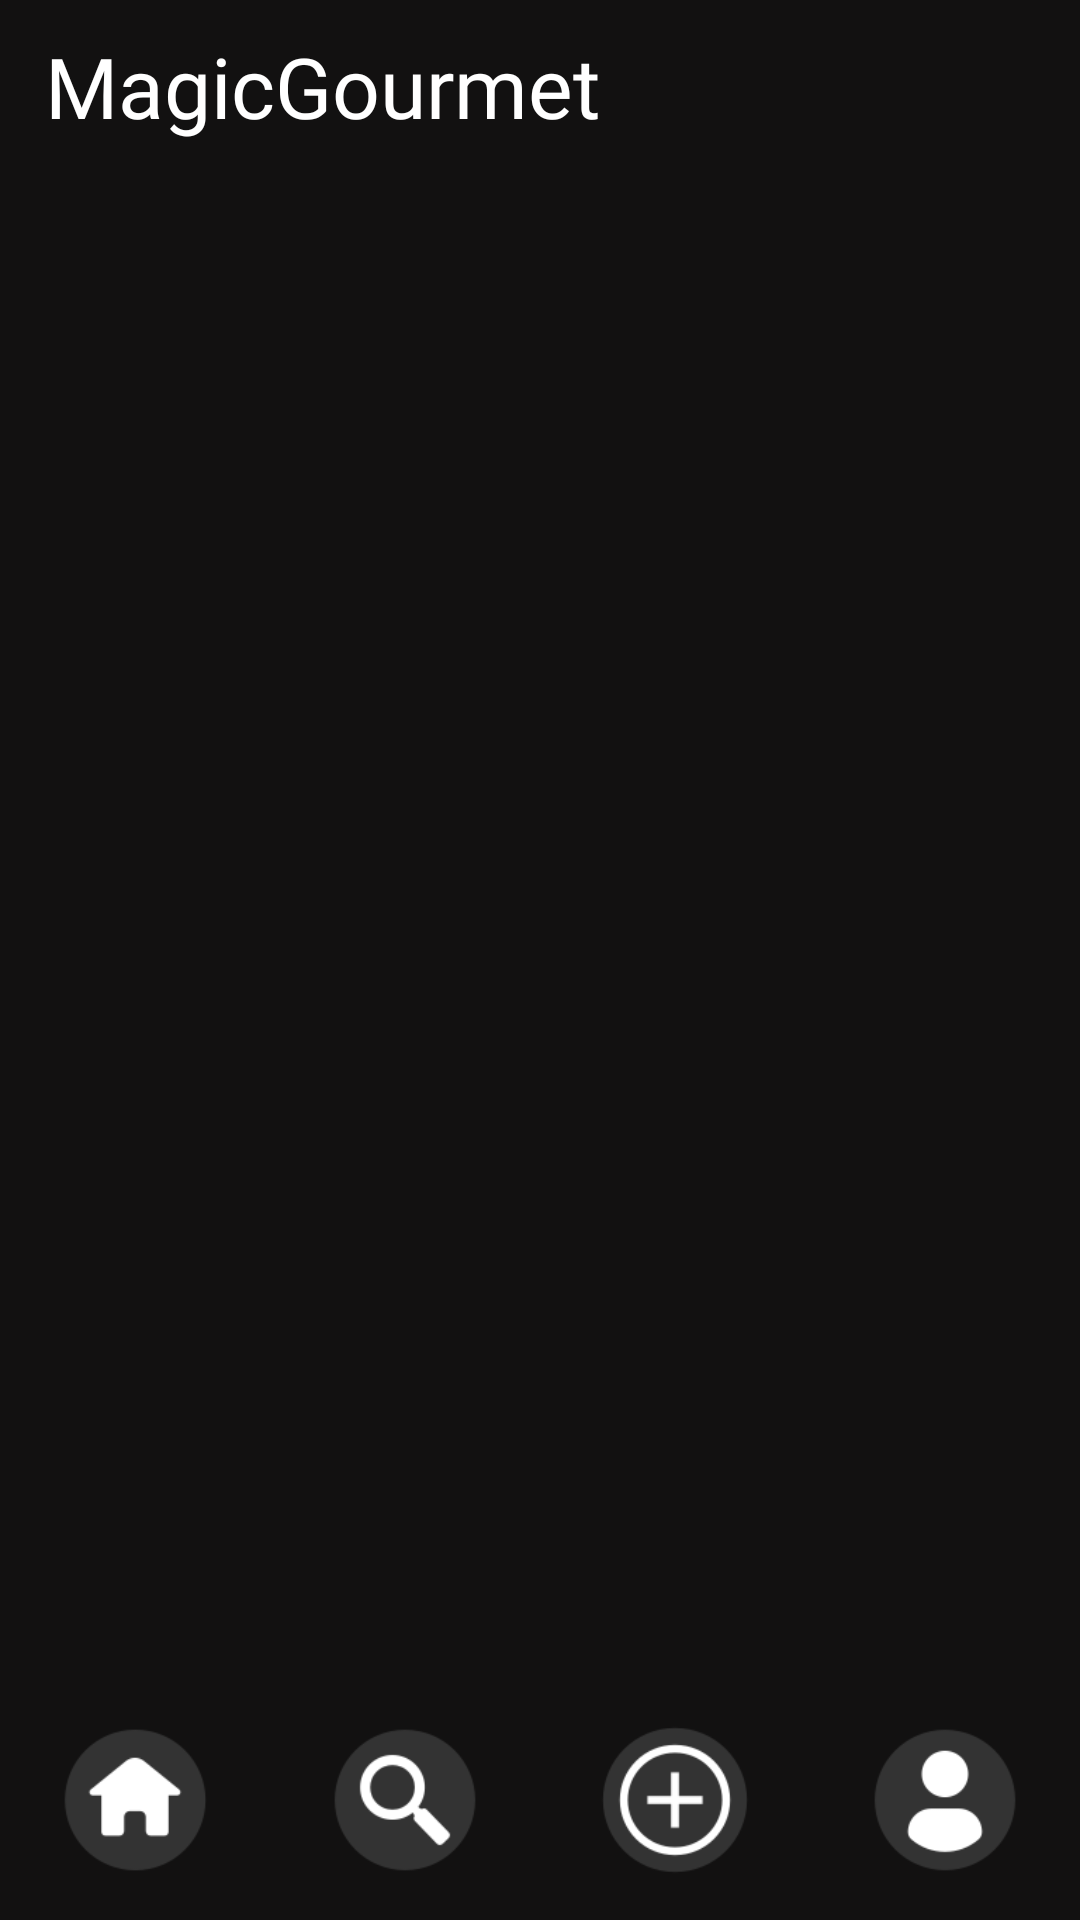

Screen size 1080w x 1920h. Icon name, then its box in pixels as (x1, y1, x2, y2):
agregar: (603, 1728, 746, 1871)
perfil us: (875, 1730, 1015, 1870)
